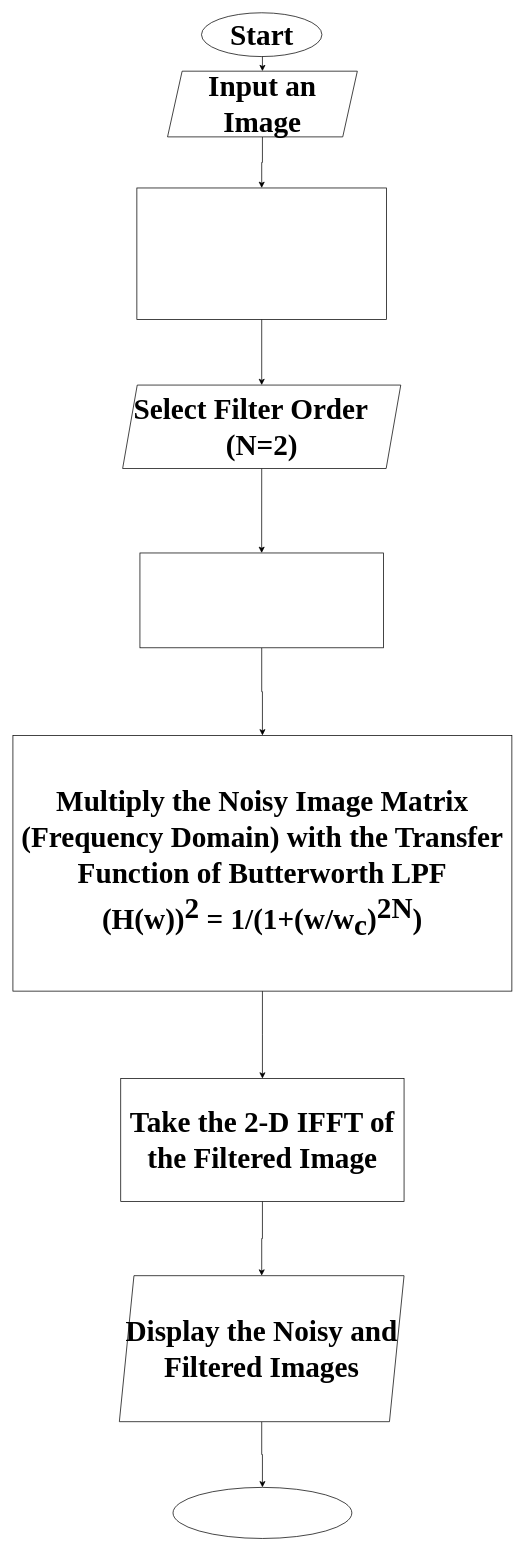
The diagram is 525 pixels wide and 1551 high, and some of its shapes have lost their labels. Each missing label, with the centre of its shape:
"Add Noise to the Image (Say Gaussian Noise)" goes at (x=261, y=253).
"End" goes at (x=262, y=1512).
"Take the 2-D FFT of the Noisy Image" goes at (x=261, y=600).
